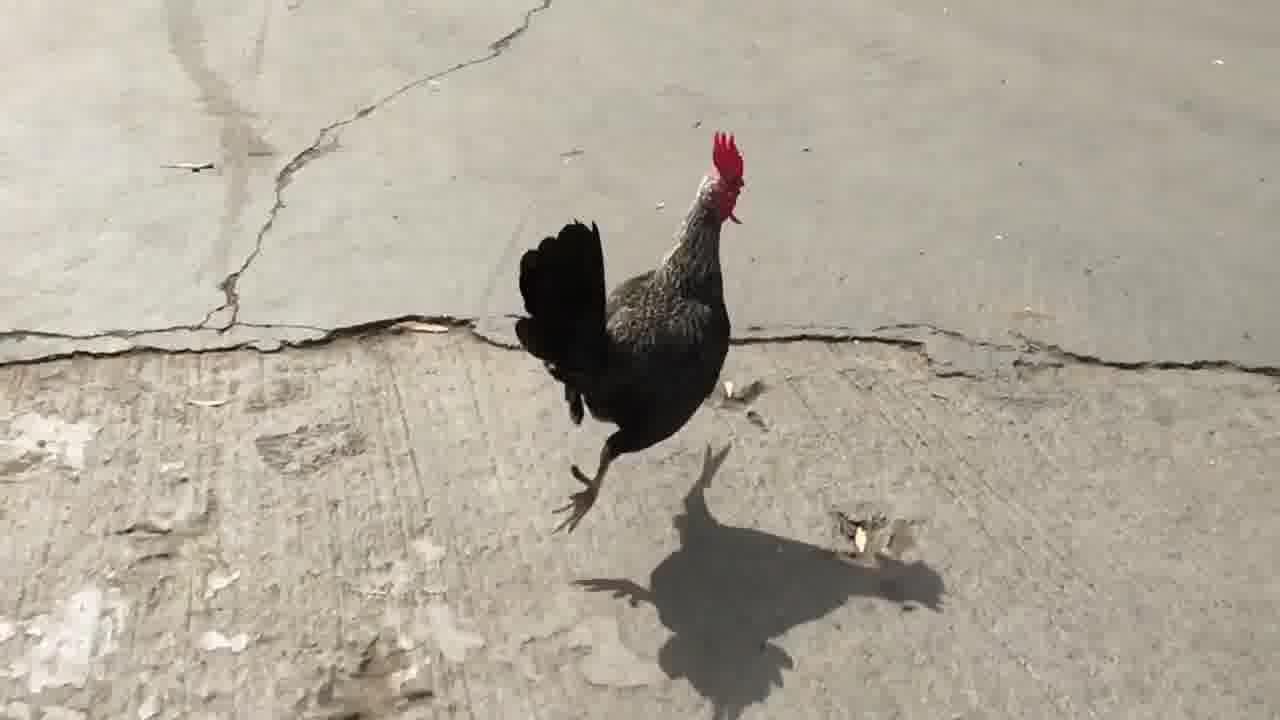Normal: (522, 124, 740, 536)
